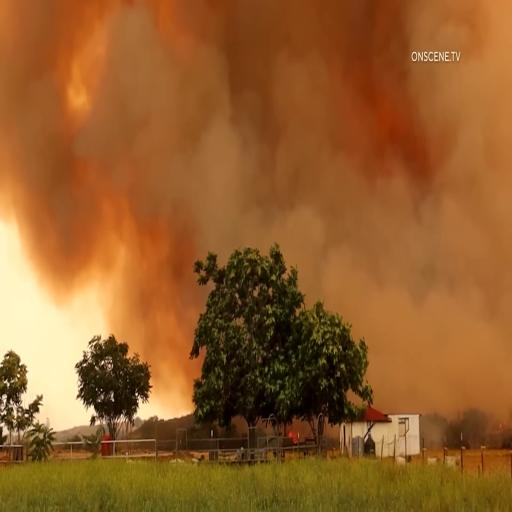smoke: (135, 49, 387, 212)
